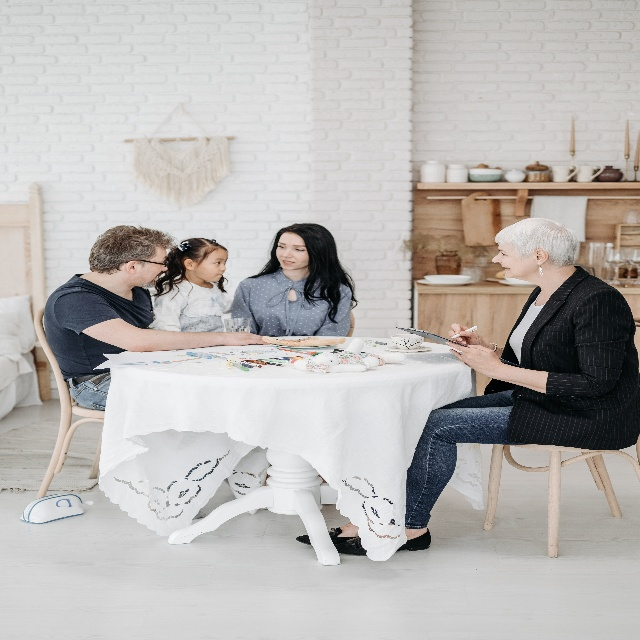Gafas: (125, 254, 168, 268)
Sin_guantes: (445, 338, 499, 380), (447, 320, 485, 348), (223, 329, 271, 346)
